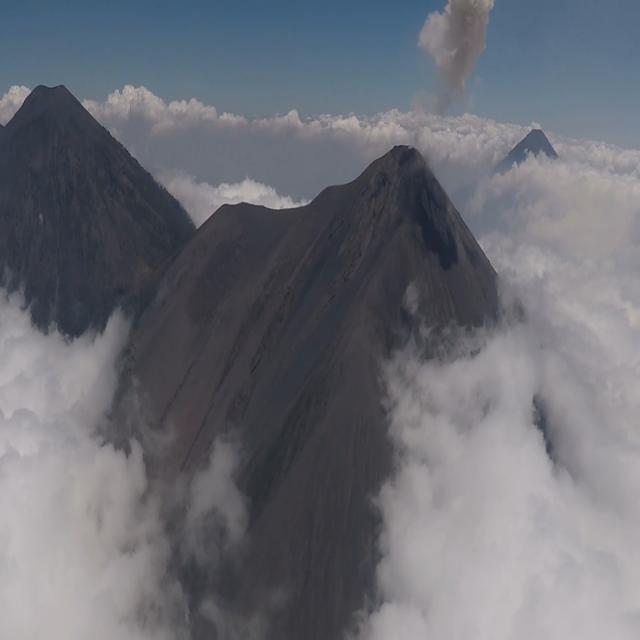Plume: (417, 1, 500, 100)
Summit: (306, 138, 476, 252)
